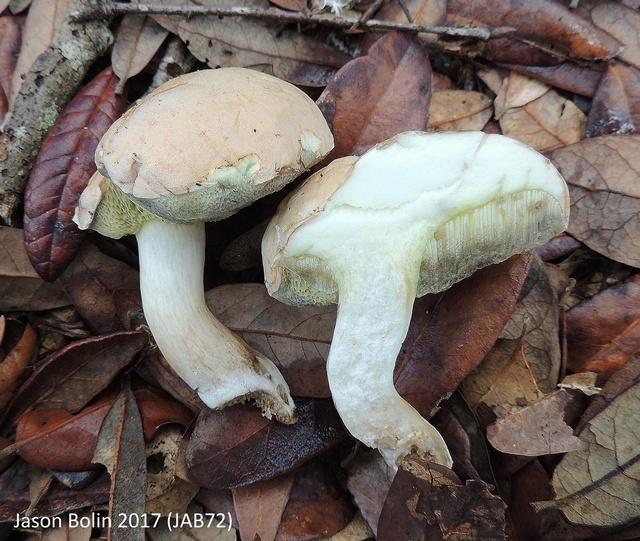edible_mushroom: (260, 127, 571, 479), (72, 65, 335, 425)
